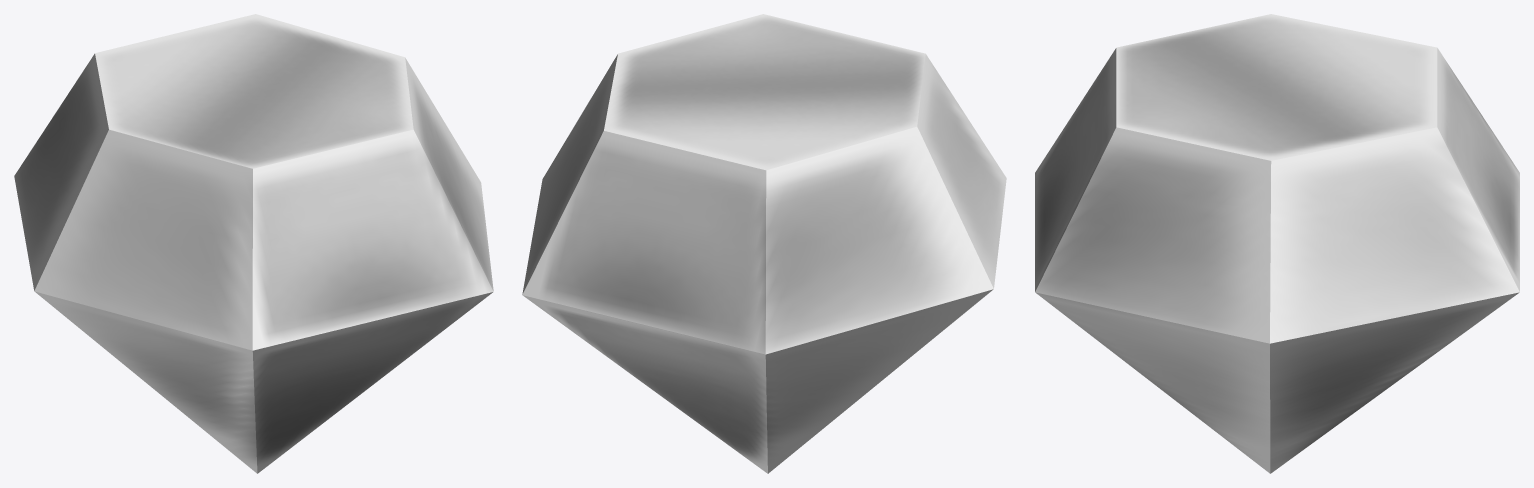
Rendered from item_009.fbx.
3 renders of one model, left to right at view 1: azimuth 30°, elevation 25°; view 2: azimuth 150°, elevation 25°; view 3: azimuth 270°, elevation 25°, orthographic.
Parts seen in each view (by area): view 1: item009_silver; view 2: item009_silver; view 3: item009_silver.
Part boxes in pixels (box(x1,y1,x2,y2)): item009_silver: box(14, 14, 493, 473); item009_silver: box(522, 14, 1006, 473); item009_silver: box(1035, 14, 1519, 473).
Bounding box in the file's own units: 0.2632 × 0.214 × 0.2434.
